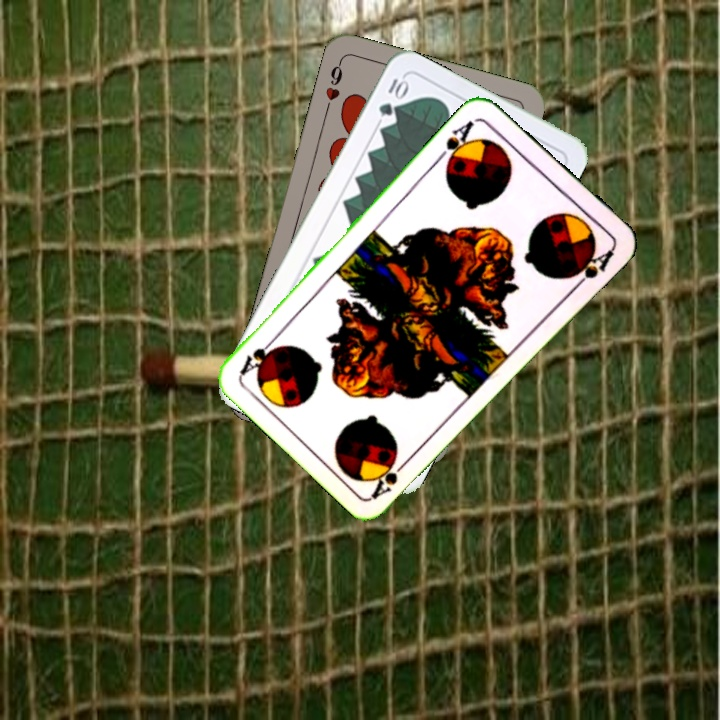G10: (374, 73, 410, 120)
H9: (321, 57, 346, 115)
SA: (434, 116, 480, 169), (367, 453, 414, 501)
